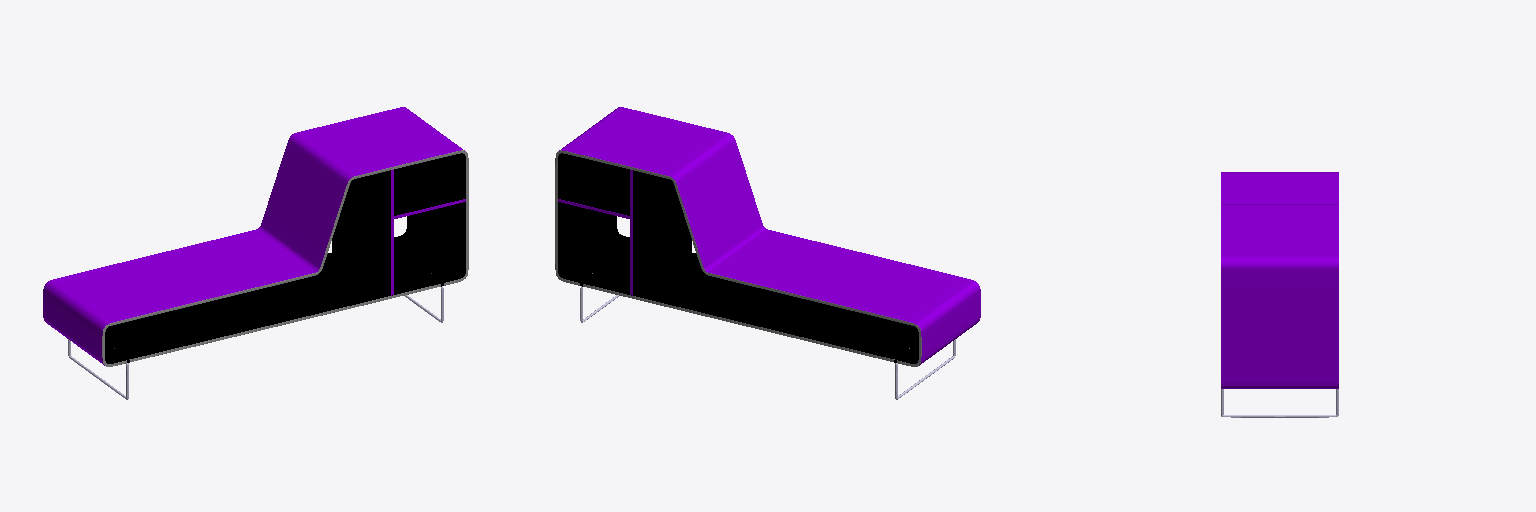
Rendered from shelf.obj.
The picture shows the model from 3 angles: view 1: azimuth 30°, elevation 25°; view 2: azimuth 150°, elevation 25°; view 3: azimuth 270°, elevation 25°; orthographic projection.
Parts seen in each view (by area): view 1: wood, black, multilayer, metal; view 2: wood, black, multilayer, metal; view 3: wood.
Boxes of the visible parts, x1=… form: wood: x1=43, y1=107, x2=464, y2=365; black: x1=105, y1=153, x2=465, y2=363; multilayer: x1=102, y1=150, x2=468, y2=366; metal: x1=68, y1=286, x2=443, y2=399; wood: x1=559, y1=107, x2=980, y2=365; black: x1=558, y1=153, x2=918, y2=363; multilayer: x1=555, y1=150, x2=921, y2=366; metal: x1=580, y1=286, x2=955, y2=399; wood: x1=1221, y1=172, x2=1338, y2=388.
Bounding box in the file's own units: 1.5 × 0.6627 × 0.4202.